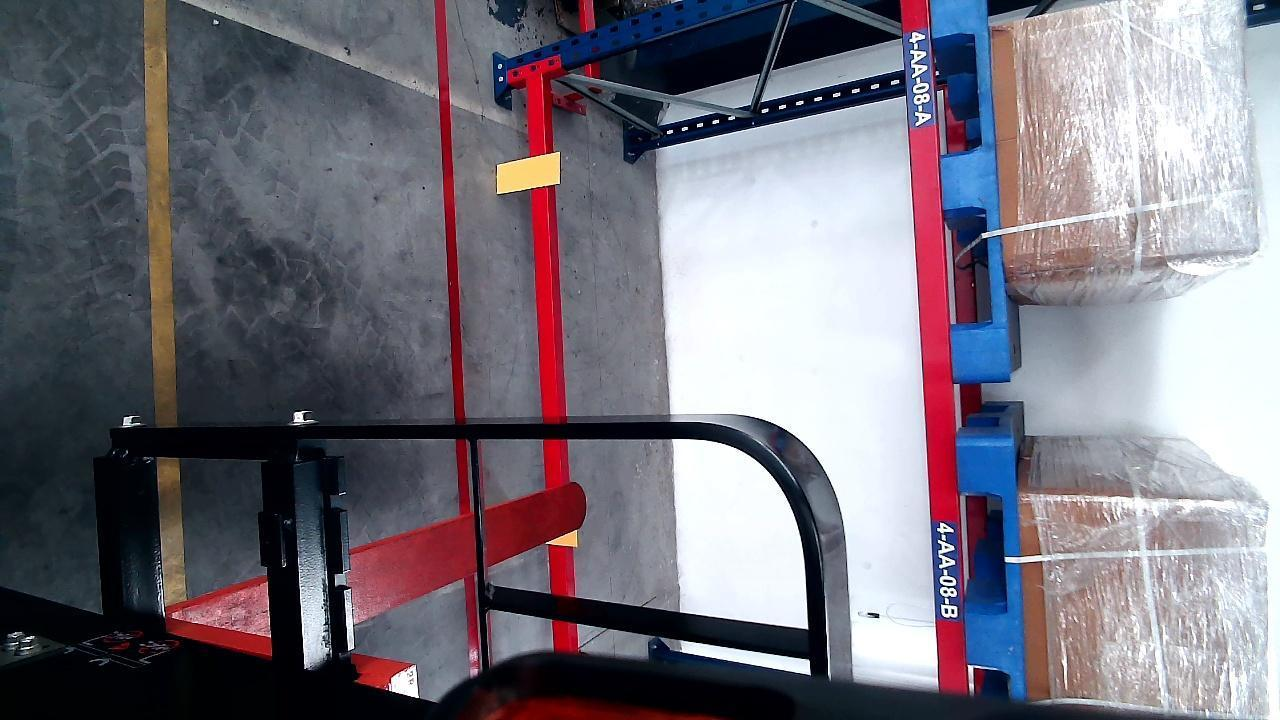h_rack: (896, 0, 967, 695), (526, 49, 571, 655)
orange_strip: (495, 153, 560, 193)
red_line: (438, 1, 480, 673)
small_pallet: (934, 0, 1013, 368), (961, 438, 1025, 702)
yellow_line: (146, 1, 184, 602)
